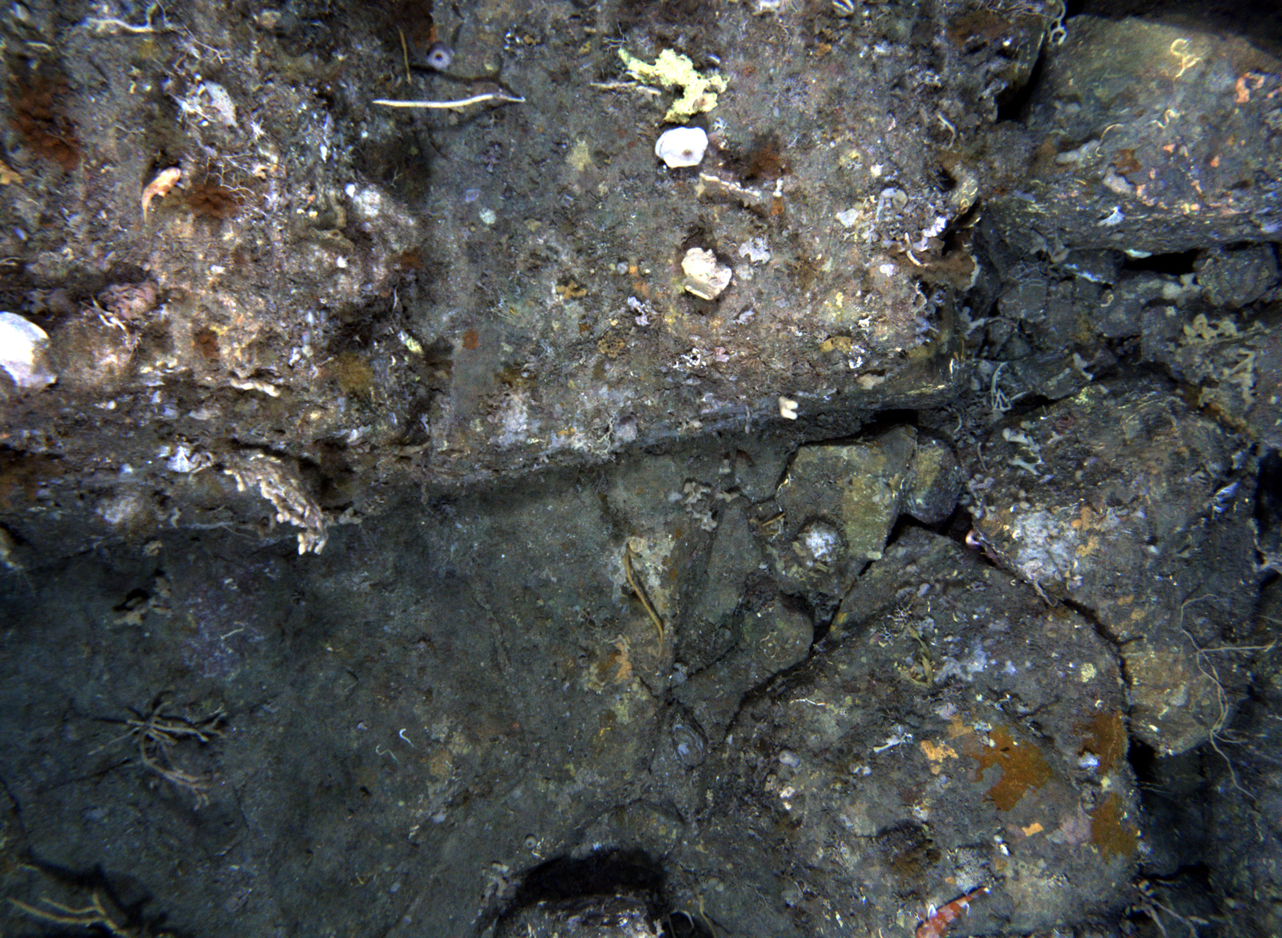Brachionichthyidae: (138, 165, 184, 229)
